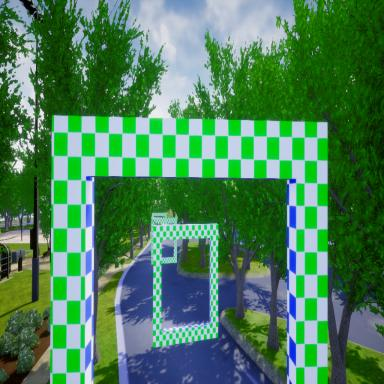gate: (152, 222, 219, 350)
